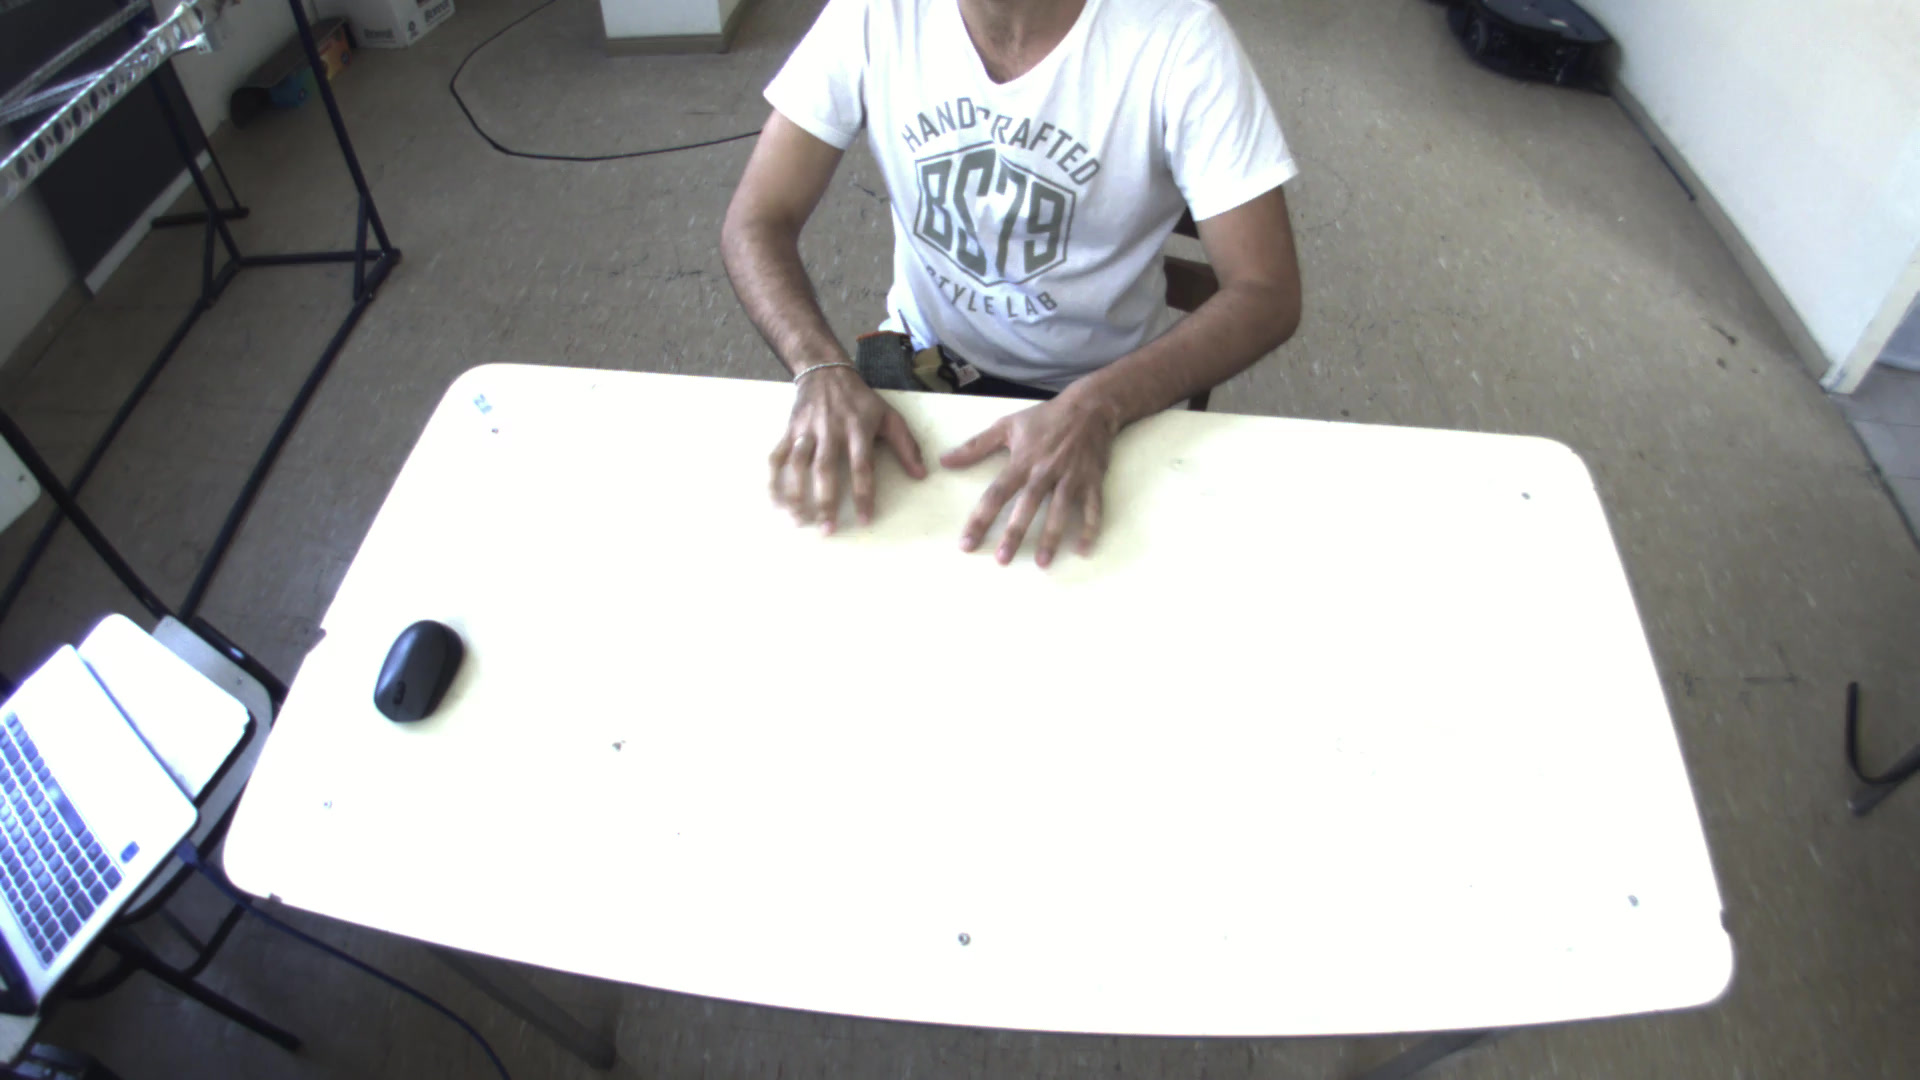hand: (942, 386, 1131, 571), (757, 338, 932, 537)
